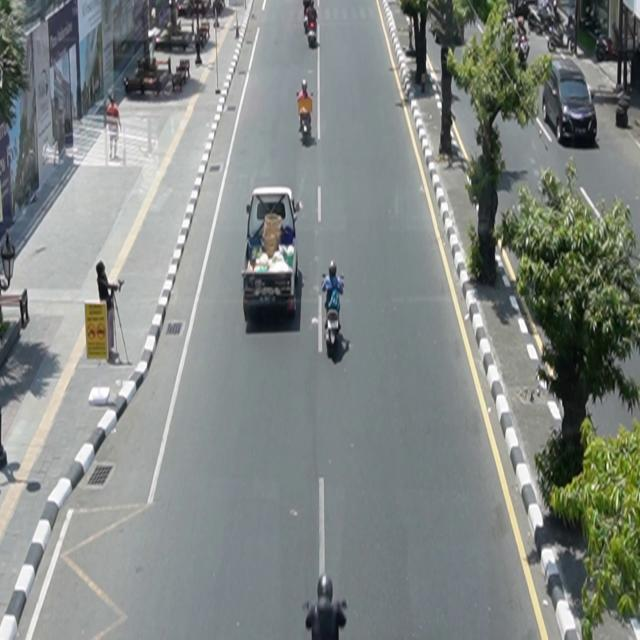car: (242, 187, 304, 324), (543, 56, 598, 146)
